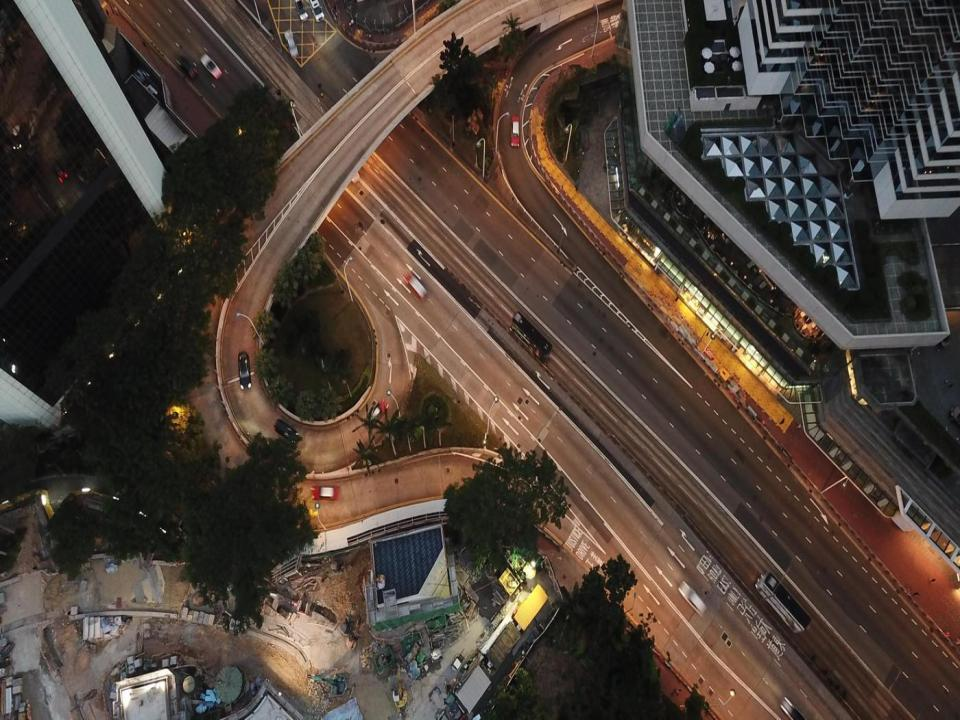bus: (755, 571, 810, 632), (511, 310, 552, 364)
car: (403, 272, 427, 301), (365, 400, 387, 427), (200, 53, 222, 79), (780, 697, 804, 719), (237, 352, 251, 389), (177, 56, 198, 78), (312, 485, 340, 501), (284, 28, 297, 56), (510, 115, 521, 148), (295, 0, 308, 21)
van: (678, 580, 706, 616), (274, 418, 301, 446), (310, 1, 324, 23)
